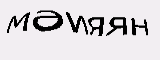Б: (44, 14, 65, 43)
В: (78, 15, 92, 36)
Е: (64, 15, 76, 34)
М: (93, 19, 108, 37)
Я: (108, 20, 120, 39)
